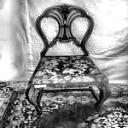chair_success: (21, 0, 115, 124)
